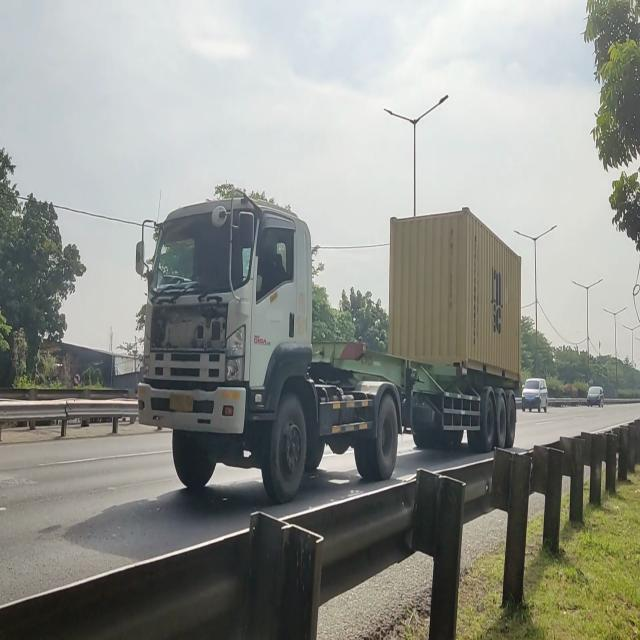Golongan V: (125, 192, 522, 515)
